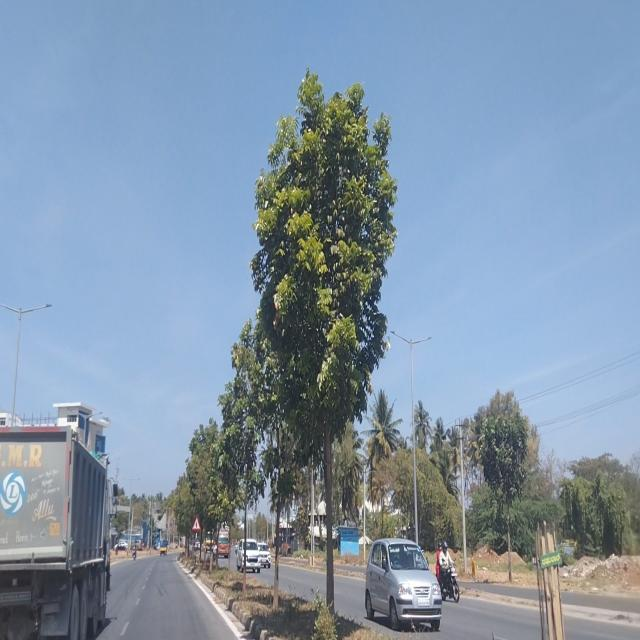bien_cam: (191, 515, 201, 533)
